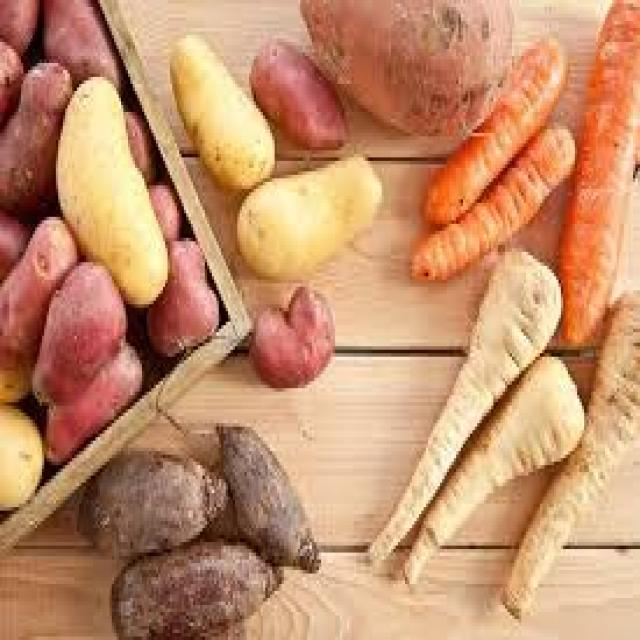organic waste: (361, 245, 561, 566), (500, 287, 638, 619), (400, 353, 582, 588), (297, 0, 514, 136), (554, 0, 638, 339), (419, 31, 565, 224), (47, 73, 165, 304), (402, 123, 572, 270), (235, 147, 382, 273), (165, 28, 272, 192), (105, 535, 277, 637), (214, 419, 319, 574), (74, 451, 226, 549), (28, 255, 123, 406), (246, 31, 346, 154), (37, 339, 140, 455), (0, 210, 72, 367), (0, 56, 70, 206), (144, 231, 219, 353), (249, 283, 330, 385), (37, 0, 118, 80), (0, 402, 42, 511), (119, 108, 156, 182), (0, 0, 39, 66), (142, 182, 181, 245), (0, 206, 28, 284), (0, 35, 21, 122), (0, 349, 35, 398)
